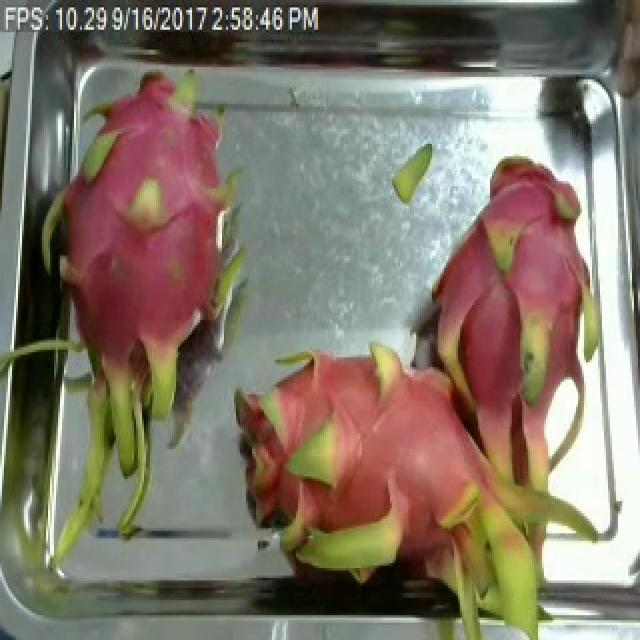Fruit: (594, 0, 640, 117)
